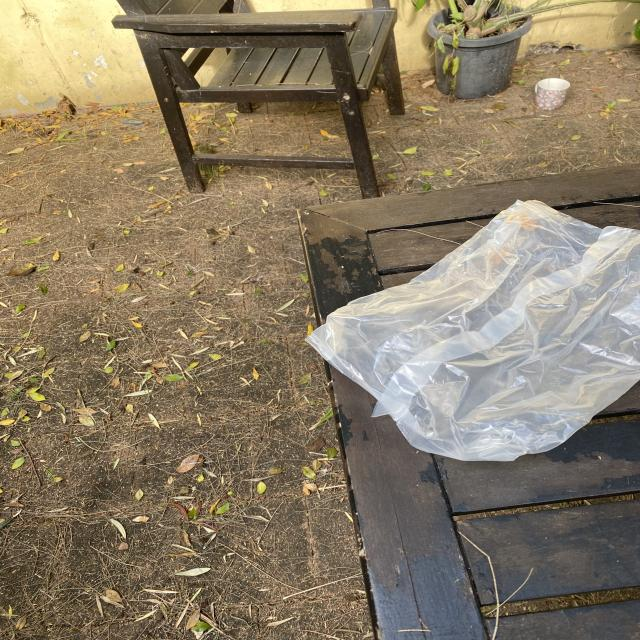bag: (301, 184, 639, 465)
container: (421, 7, 533, 104)
cup: (533, 73, 576, 113)
